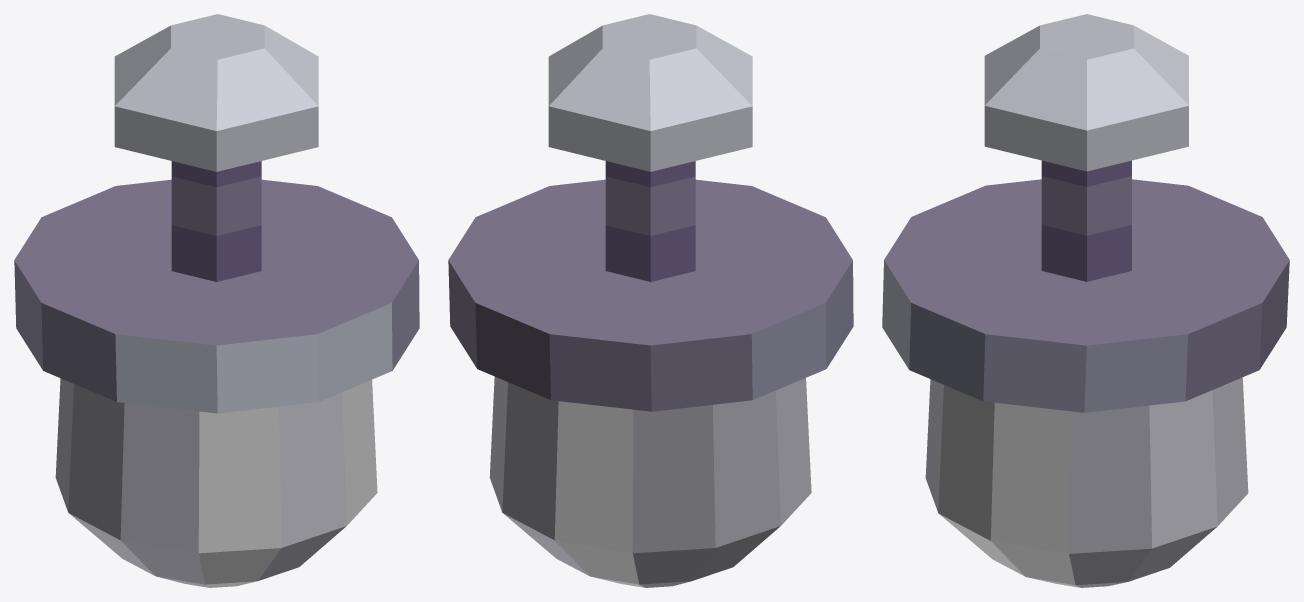
File: claw_body.glb
The picture shows the model from 3 angles, left to right: view 1: azimuth 30°, elevation 25°; view 2: azimuth 150°, elevation 25°; view 3: azimuth 270°, elevation 25°; orthographic projection.
Parts seen in each view (by area): view 1: claw_body; view 2: claw_body; view 3: claw_body.
Part boxes in pixels (x1,y1,x2,y2): claw_body: (14, 14, 419, 587); claw_body: (448, 14, 853, 587); claw_body: (882, 14, 1289, 587).
Bounding box in the file's own units: 0.9466 × 1.36 × 0.9509.
